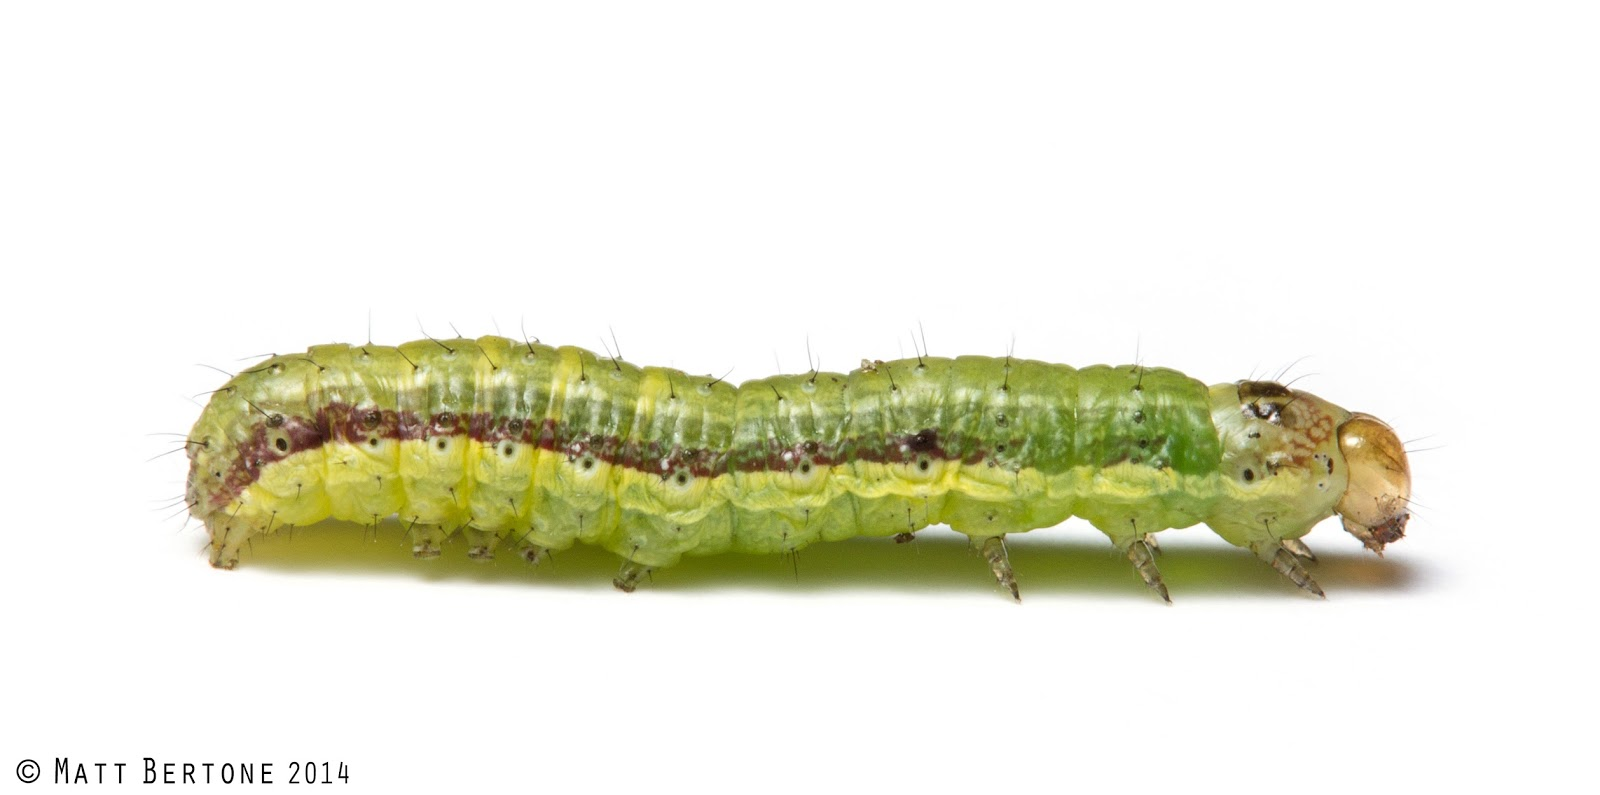Armyworms: (117, 286, 1444, 638)
